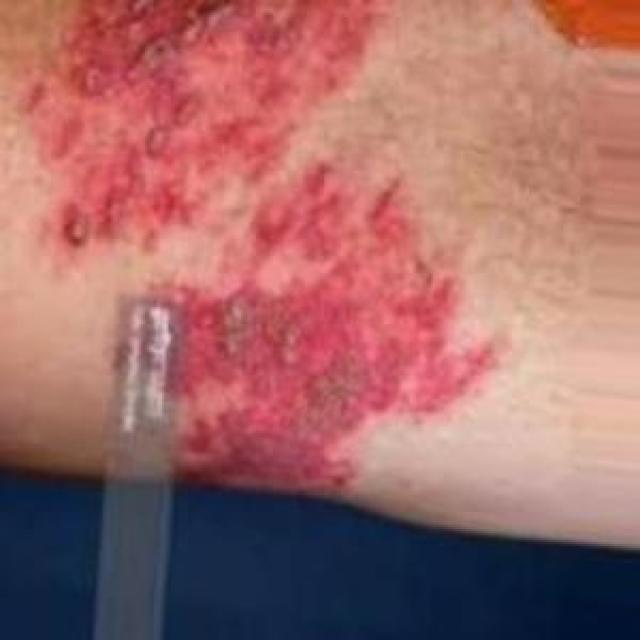Shingles: (146, 164, 493, 493), (15, 0, 380, 264)
